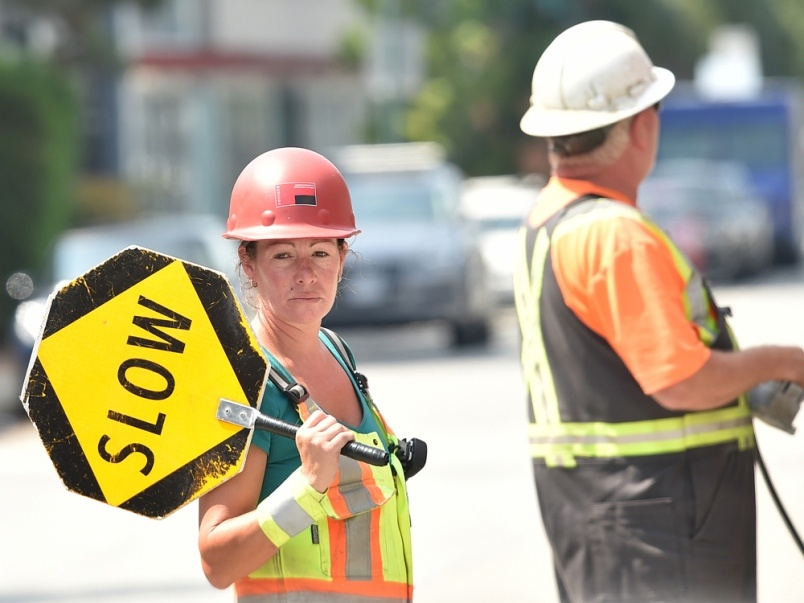red: (224, 147, 356, 326)
white: (524, 18, 671, 194)
